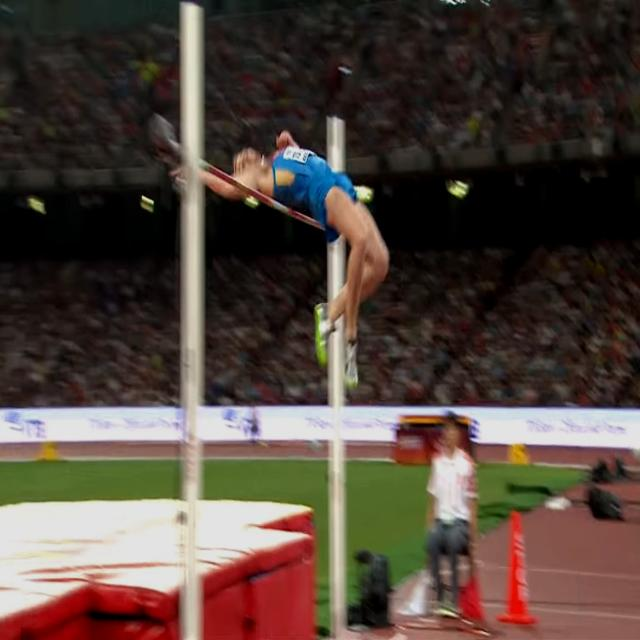jump: (201, 130, 388, 388)
